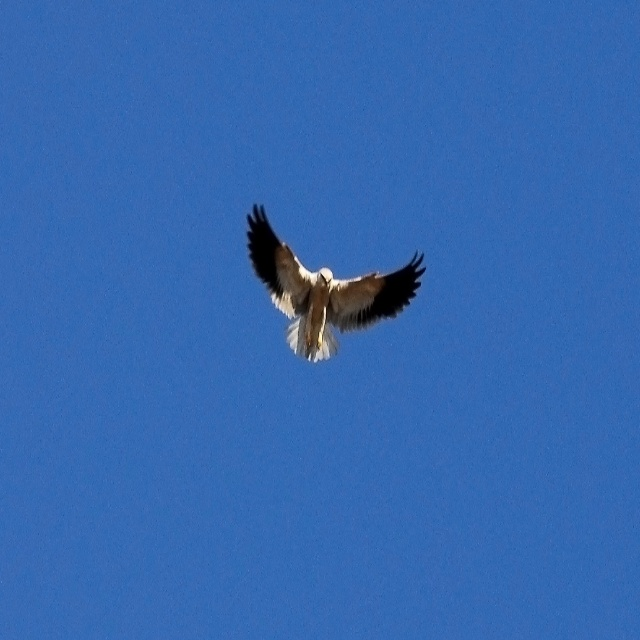Eagle: (241, 199, 429, 362)
